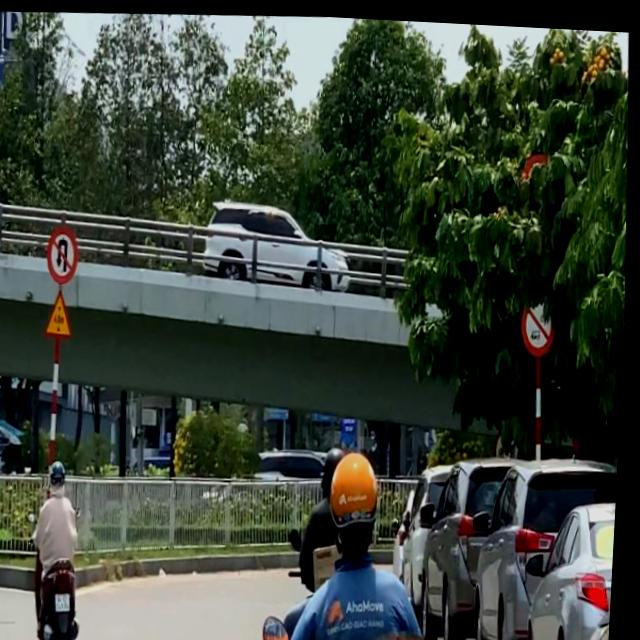Cam quay dau xe: (47, 223, 83, 284)
Chieu cao an toan: (46, 287, 77, 340)
